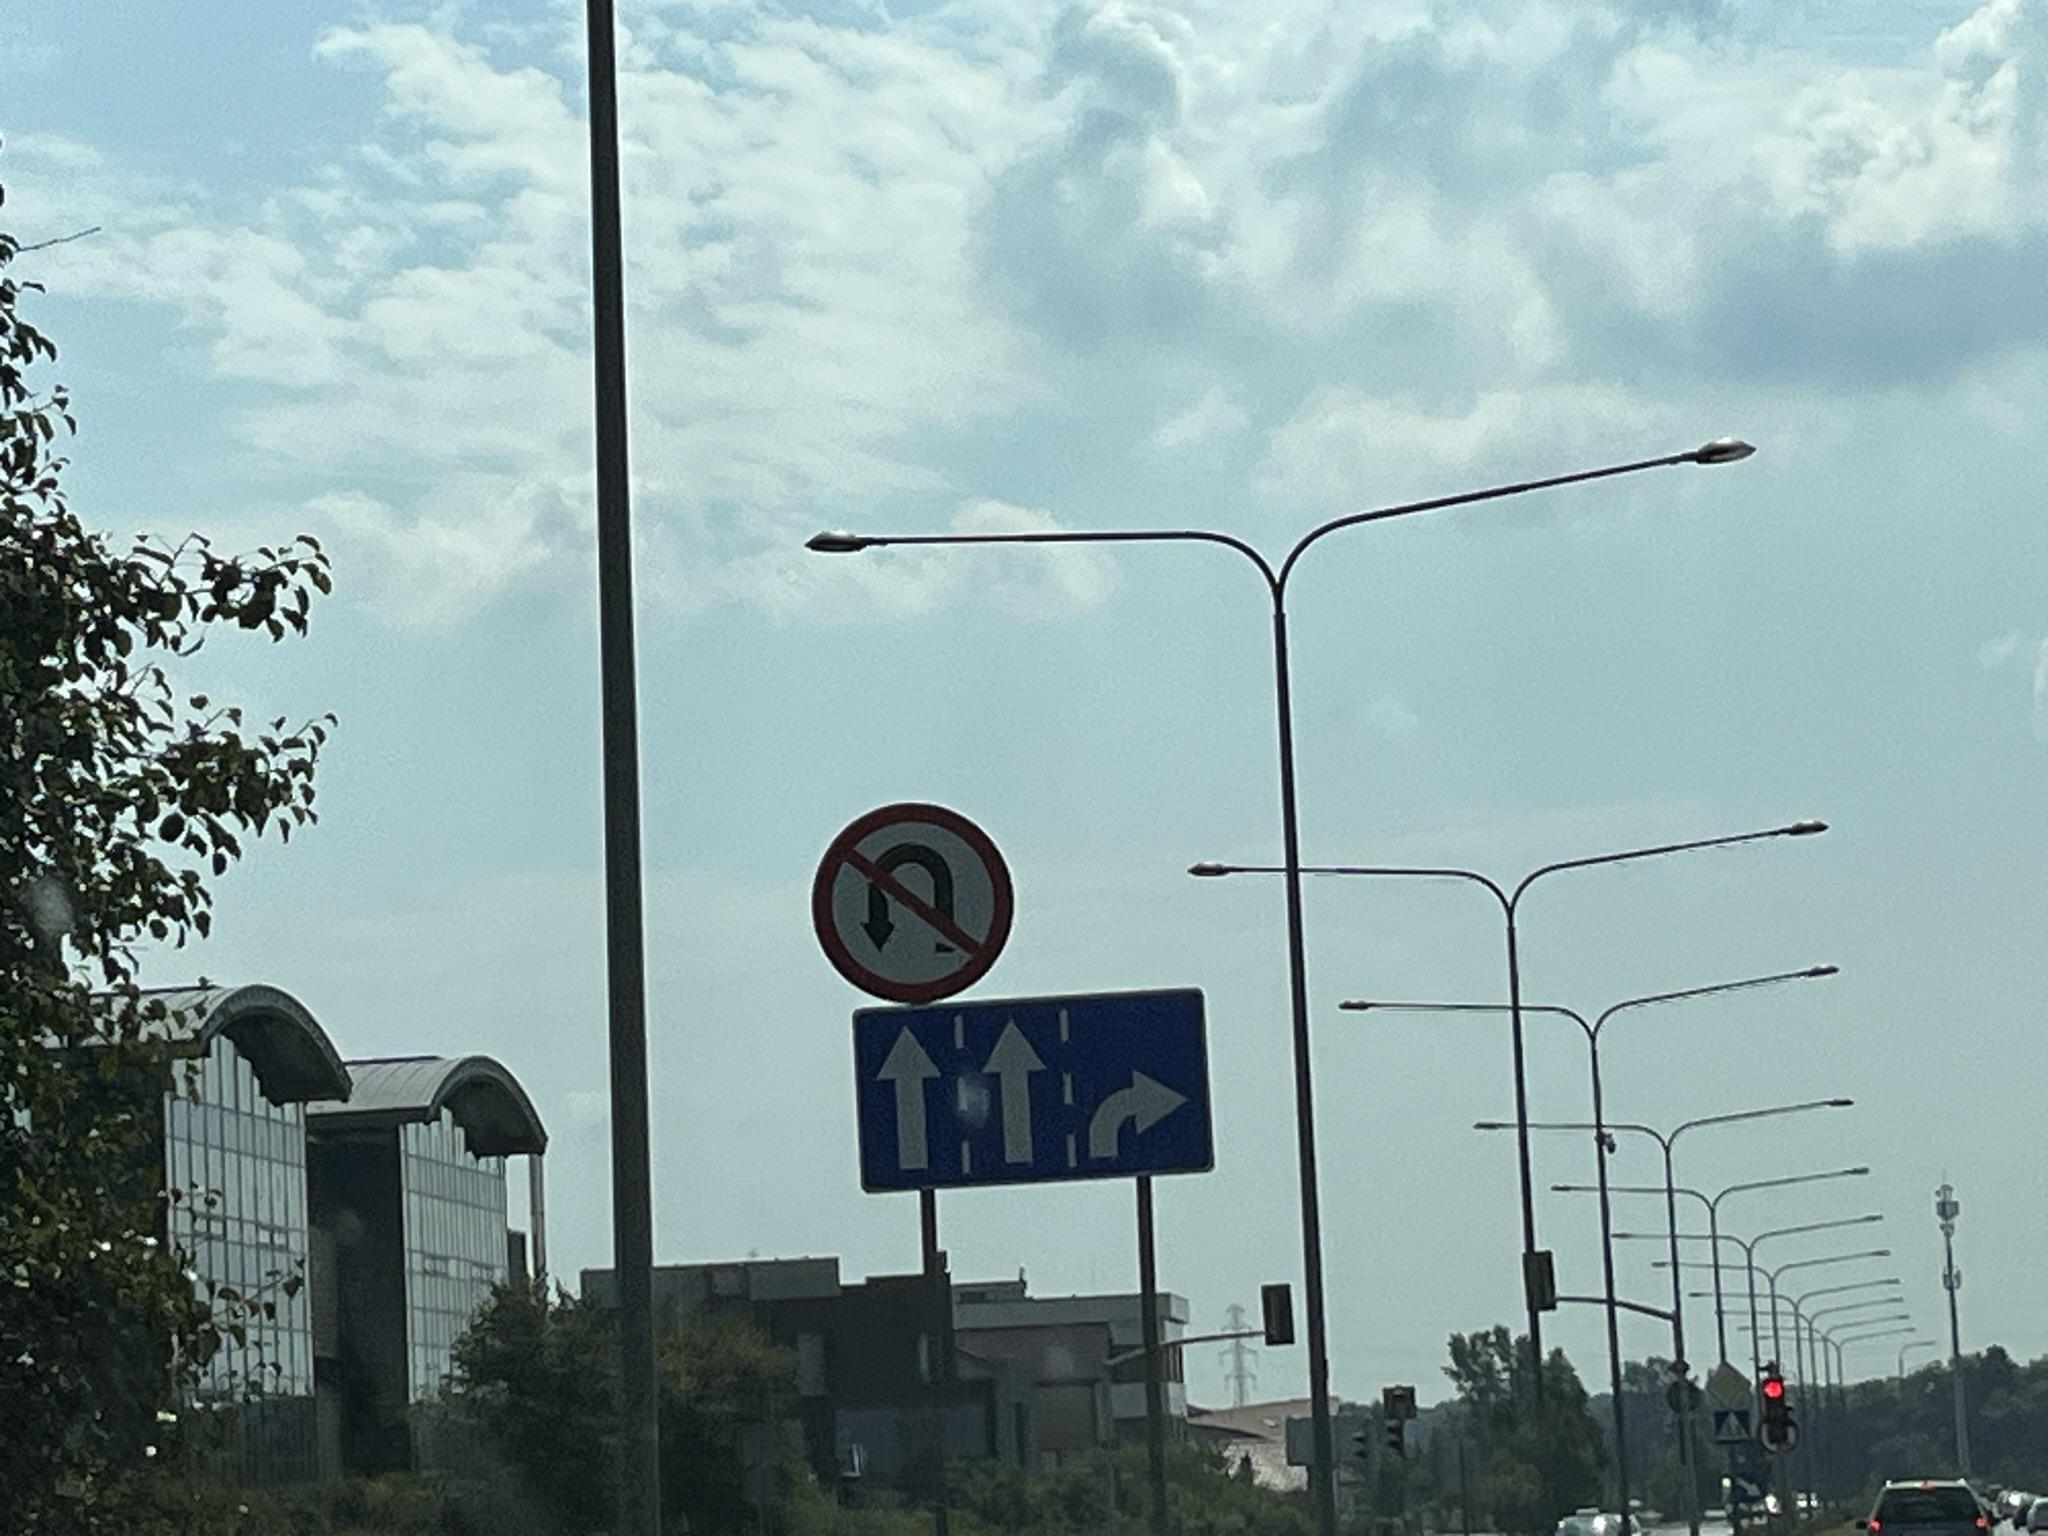information: (1706, 1363, 1750, 1409), (1714, 1410, 1750, 1442)
other: (861, 995, 1206, 1194)
prohibitory: (811, 800, 1016, 1005)
